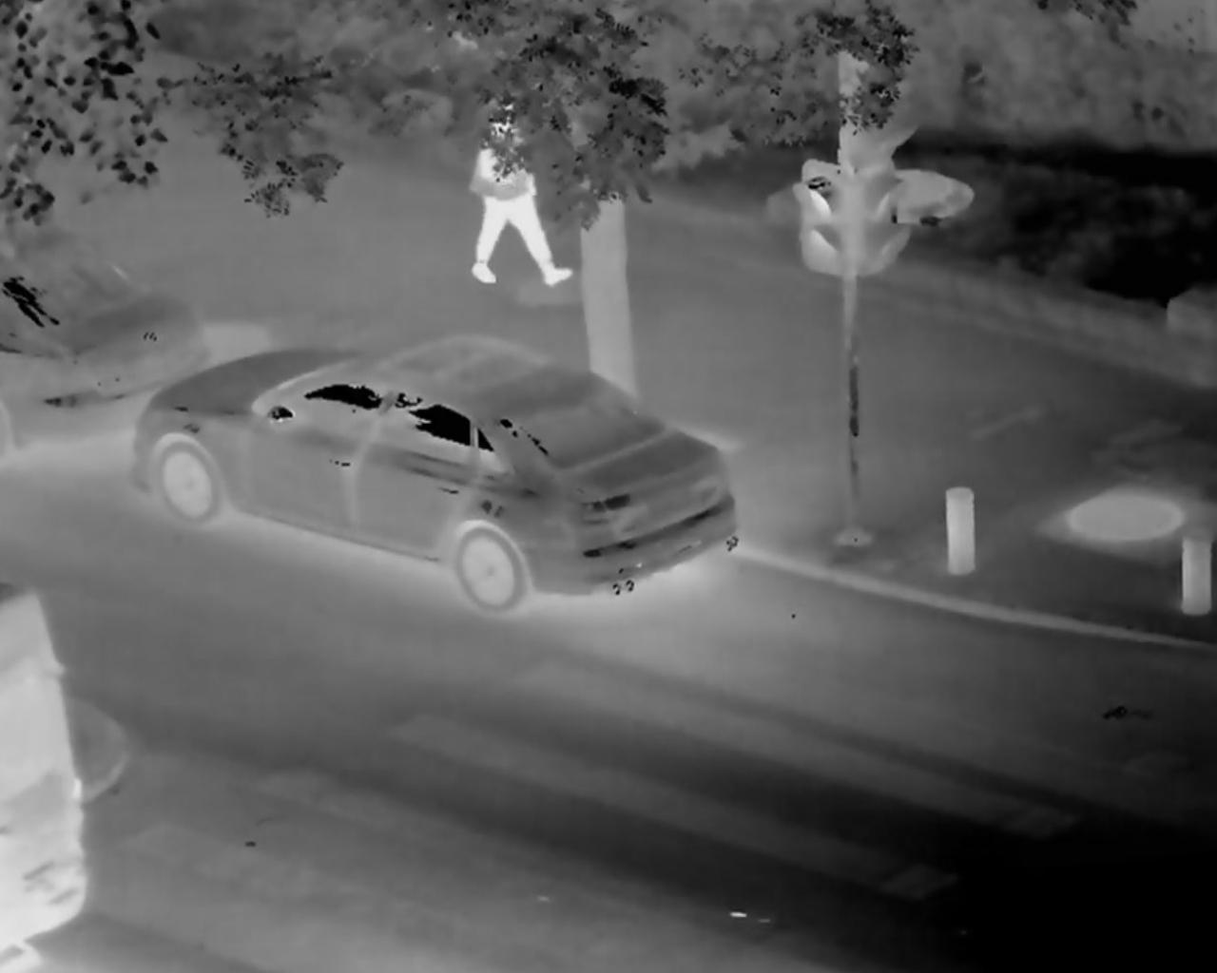person: (442, 97, 577, 296)
